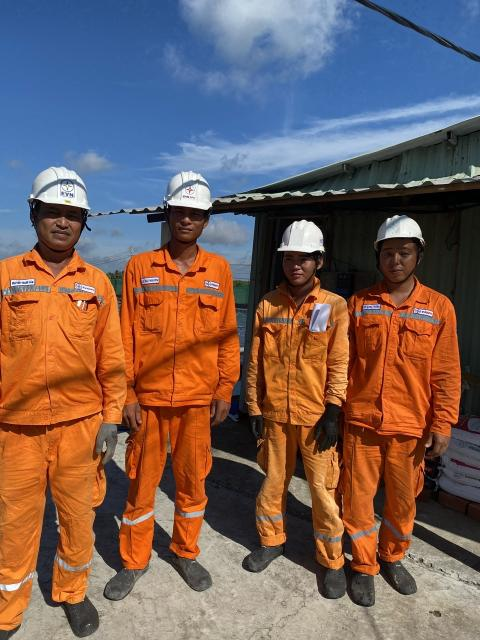gloves: (239, 401, 285, 452), (88, 416, 133, 468), (306, 401, 343, 464)
helmet: (31, 156, 102, 228), (160, 164, 231, 219), (367, 213, 436, 254), (293, 209, 324, 265)
shoes: (157, 538, 228, 605), (371, 541, 428, 604), (240, 531, 294, 579), (93, 558, 149, 602), (311, 556, 343, 612), (346, 561, 377, 618), (65, 593, 102, 640)
